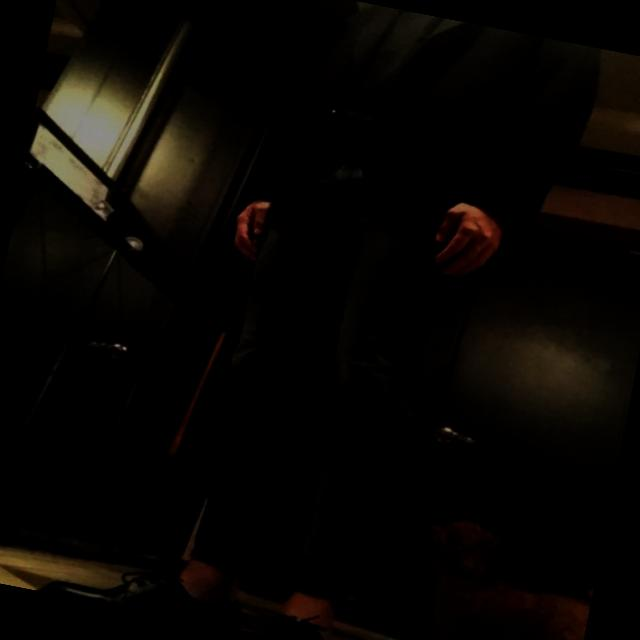blazer: (259, 0, 602, 278)
denimpants: (186, 117, 472, 610)
